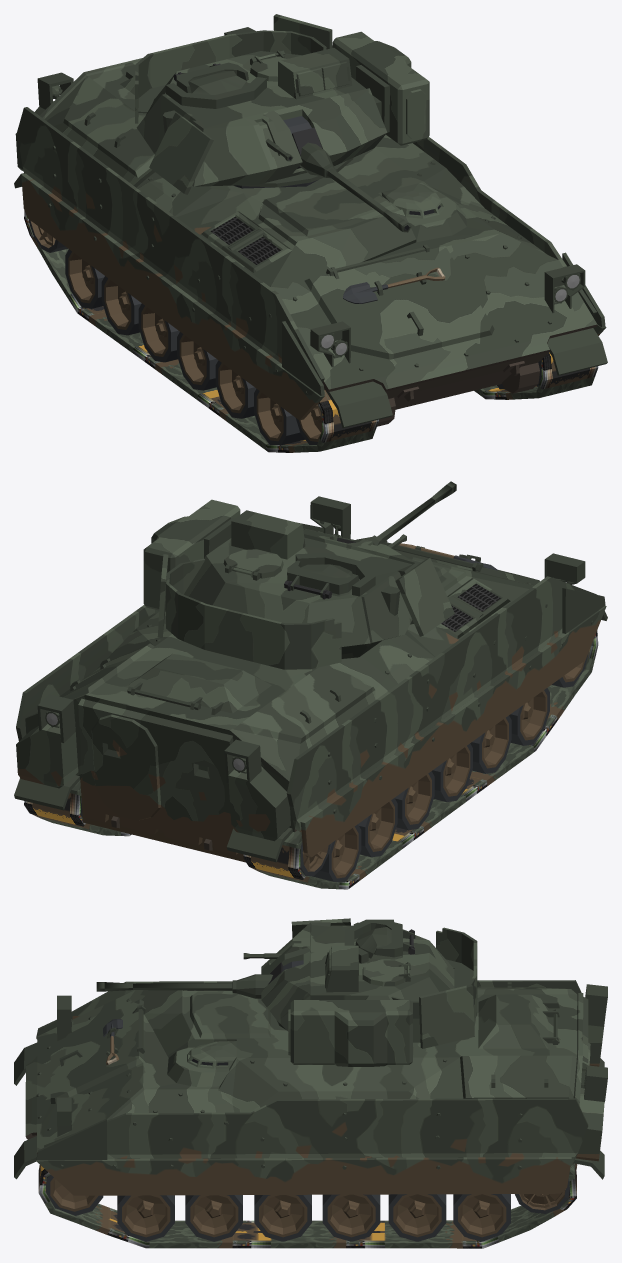
File: SM_Veh_Light_Tank_01.fbx
3 renders of one model, top to bottom at view 1: azimuth 30°, elevation 25°; view 2: azimuth 150°, elevation 25°; view 3: azimuth 270°, elevation 25°, orthographic. The views are drawn at different scales.
Parts seen in each view (by area): view 1: SM_Veh_Light_Tank_01, SM_Veh_Light_Tank_01_Turret, SM_Veh_Light_Tank_01_Track_R, SM_Veh_Light_Tank_01_Barrel, SM_Veh_Light_Tank_01_Track_L, SM_Veh_Light_Tank_01_Hatch_r, SM_Veh_Light_Tank_01_Hatch_l; view 2: SM_Veh_Light_Tank_01, SM_Veh_Light_Tank_01_Turret, SM_Veh_Light_Tank_01_Track_R, SM_Veh_Light_Tank_01_Hatch_r, SM_Veh_Light_Tank_01_Track_L, SM_Veh_Light_Tank_01_Hatch_l, SM_Veh_Light_Tank_01_Barrel; view 3: SM_Veh_Light_Tank_01, SM_Veh_Light_Tank_01_Turret, SM_Veh_Light_Tank_01_Track_L, SM_Veh_Light_Tank_01_Barrel, SM_Veh_Light_Tank_01_Hatch_r, SM_Veh_Light_Tank_01_Hatch_l.
Part boxes in pixels (left/top/right/bottom): SM_Veh_Light_Tank_01: left=14, top=27, right=607, bottom=445; SM_Veh_Light_Tank_01_Turret: left=135, top=14, right=429, bottom=194; SM_Veh_Light_Tank_01_Track_R: left=24, top=210, right=378, bottom=452; SM_Veh_Light_Tank_01_Barrel: left=283, top=116, right=411, bottom=232; SM_Veh_Light_Tank_01_Track_L: left=474, top=352, right=598, bottom=399; SM_Veh_Light_Tank_01_Hatch_r: left=173, top=62, right=248, bottom=94; SM_Veh_Light_Tank_01_Hatch_l: left=250, top=50, right=298, bottom=81; SM_Veh_Light_Tank_01: left=14, top=496, right=607, bottom=882; SM_Veh_Light_Tank_01_Turret: left=143, top=499, right=454, bottom=669; SM_Veh_Light_Tank_01_Track_R: left=243, top=630, right=598, bottom=889; SM_Veh_Light_Tank_01_Hatch_r: left=284, top=560, right=359, bottom=598; SM_Veh_Light_Tank_01_Track_L: left=24, top=780, right=131, bottom=836; SM_Veh_Light_Tank_01_Hatch_l: left=223, top=549, right=283, bottom=578; SM_Veh_Light_Tank_01_Barrel: left=337, top=481, right=456, bottom=545; SM_Veh_Light_Tank_01: left=14, top=980, right=607, bottom=1241; SM_Veh_Light_Tank_01_Turret: left=243, top=918, right=477, bottom=1066; SM_Veh_Light_Tank_01_Track_L: left=38, top=1163, right=576, bottom=1248; SM_Veh_Light_Tank_01_Barrel: left=96, top=960, right=303, bottom=998; SM_Veh_Light_Tank_01_Hatch_r: left=355, top=922, right=414, bottom=959; SM_Veh_Light_Tank_01_Hatch_l: left=362, top=960, right=410, bottom=986.
Size of the model in its own units: 329 by 297 by 660.
